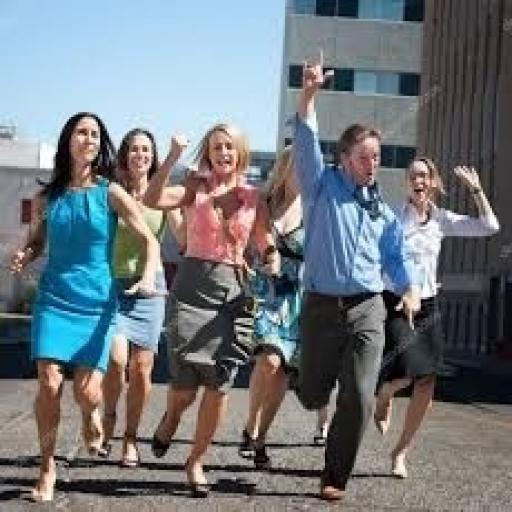running: (6, 110, 164, 505), (285, 56, 423, 503), (140, 120, 283, 500), (370, 152, 503, 484)
